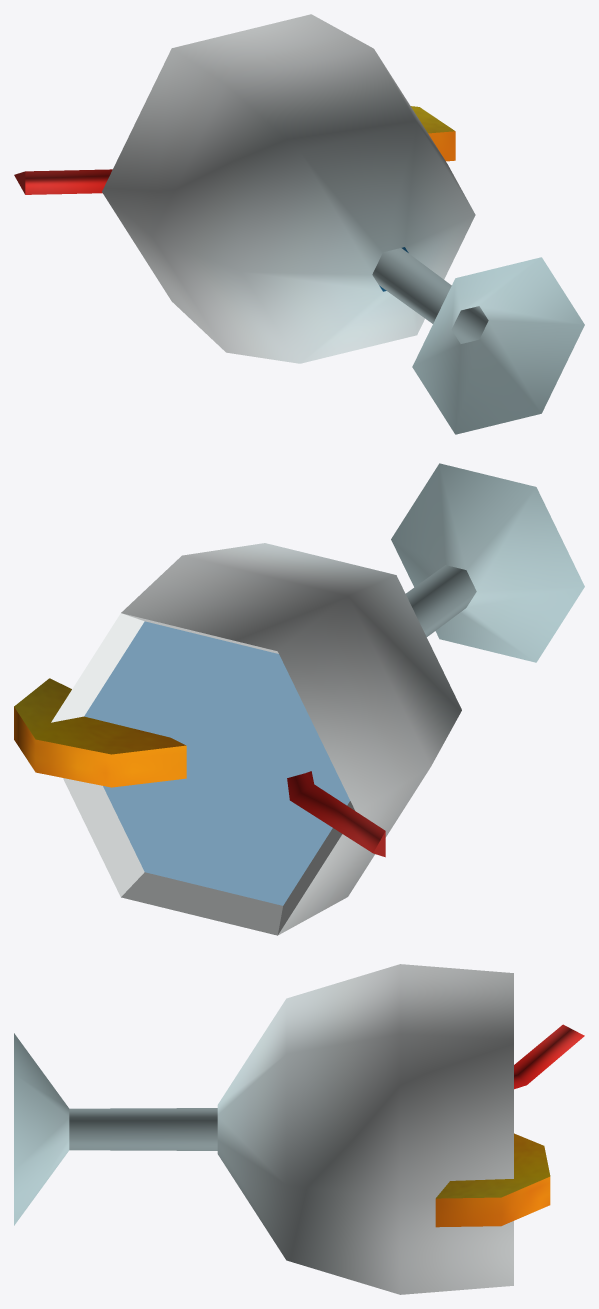
File: Drink_03.fbx
3 views of the same model, one above another, from view 1: azimuth 30°, elevation 25°; view 2: azimuth 150°, elevation 25°; view 3: azimuth 270°, elevation 25° (orthographic). The views are drawn at different scales.
Parts seen in each view (by area): view 1: Drink_03; view 2: Drink_03; view 3: Drink_03.
Boxes of the visible parts, box(x1,y1,x2,y2) form: Drink_03: box(14, 14, 584, 434); Drink_03: box(14, 463, 584, 935); Drink_03: box(14, 964, 584, 1294).
Size of the model in its own units: 6.61 by 9.21 by 4.64.
